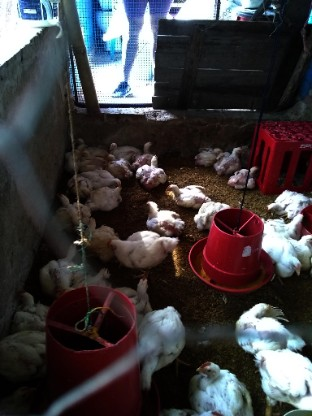Pollos: (250, 326, 312, 413), (135, 305, 193, 394), (230, 293, 303, 346), (187, 357, 248, 416), (0, 329, 59, 383), (106, 232, 179, 273), (7, 285, 53, 332), (261, 230, 302, 281), (114, 270, 162, 313), (39, 241, 76, 294), (266, 177, 312, 214), (145, 198, 189, 234), (83, 216, 119, 258), (73, 264, 120, 295), (0, 378, 40, 414), (260, 202, 305, 233), (193, 198, 234, 231), (58, 191, 92, 228), (216, 141, 248, 176), (163, 179, 206, 205), (137, 155, 168, 190), (75, 167, 119, 189), (230, 163, 266, 188), (90, 186, 123, 213), (189, 143, 221, 166), (105, 140, 139, 159), (158, 400, 198, 416), (141, 137, 157, 160), (77, 136, 83, 145), (80, 142, 87, 149), (80, 148, 88, 154)
